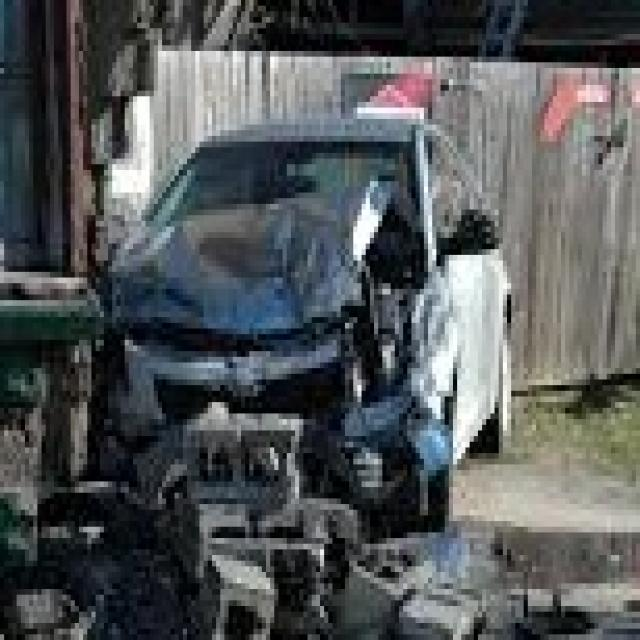severe: (125, 250, 448, 454)
